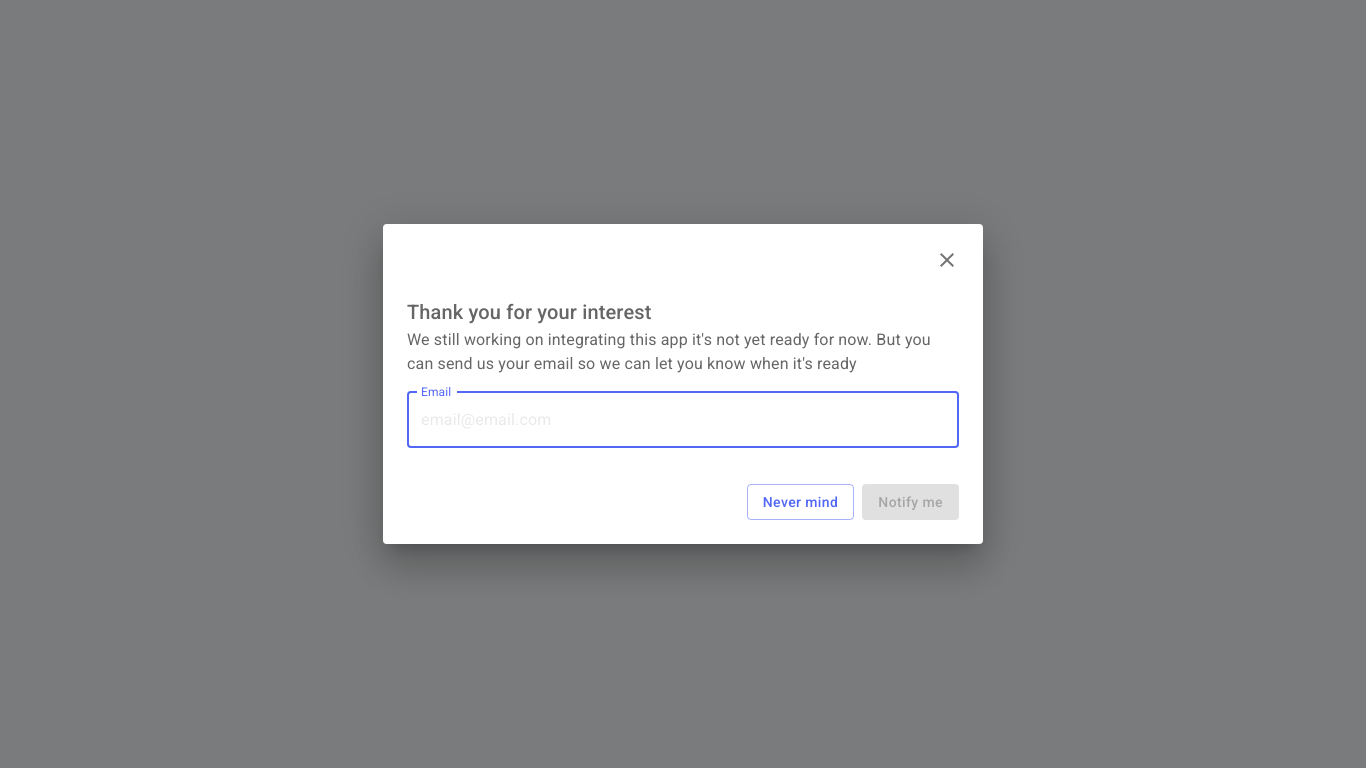
Test: NotifyMeDialog › should not allow submit notify when email empty or invalid
Check: the text "Invalid email address" is not shown
Check: the button "Notify me" is disabled, box [862,484,959,520]
Type "wrong.email" into the field labelled "Email".
click(683, 420); type("wrong.email")  # box [407,392,959,448]
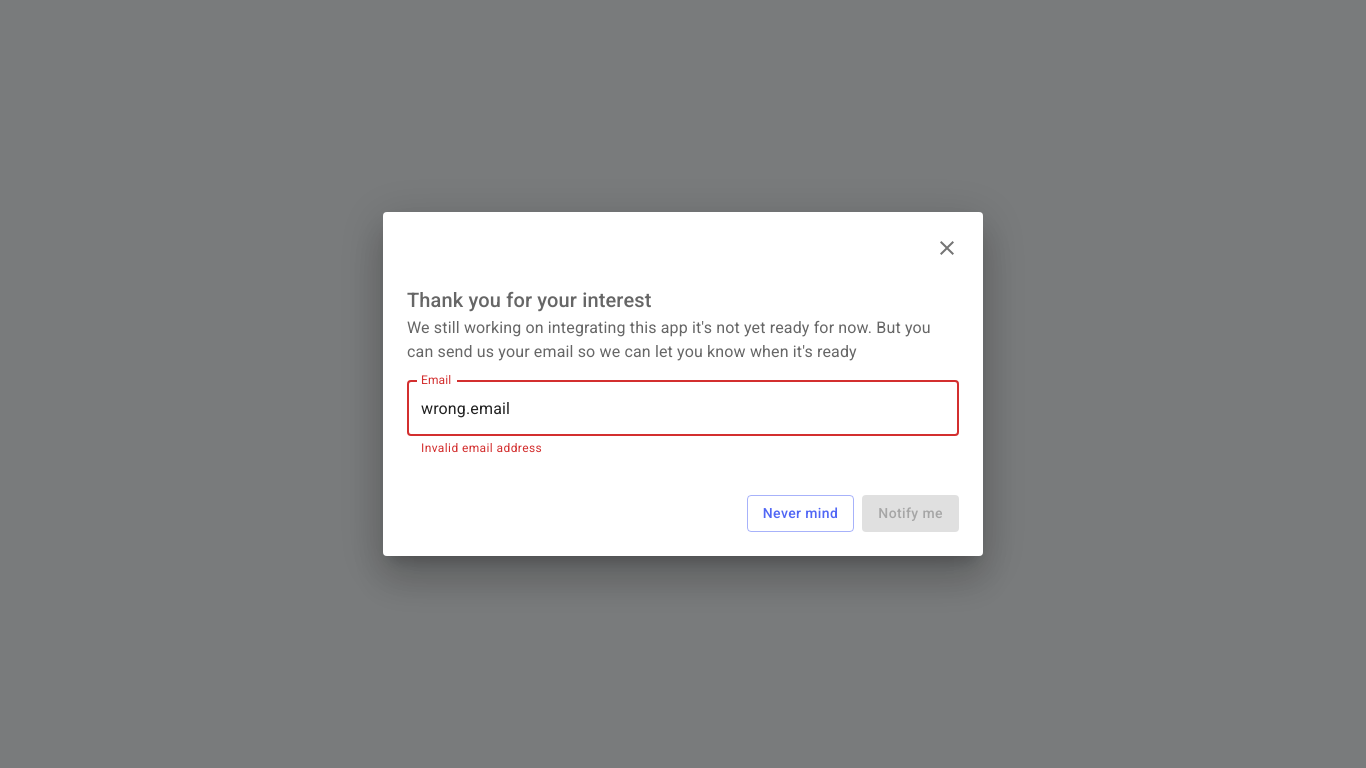
Check: the button "Notify me" is disabled, box [862,495,959,532]
Check: the text "Invalid email address" is shown, box [421,441,542,455]
